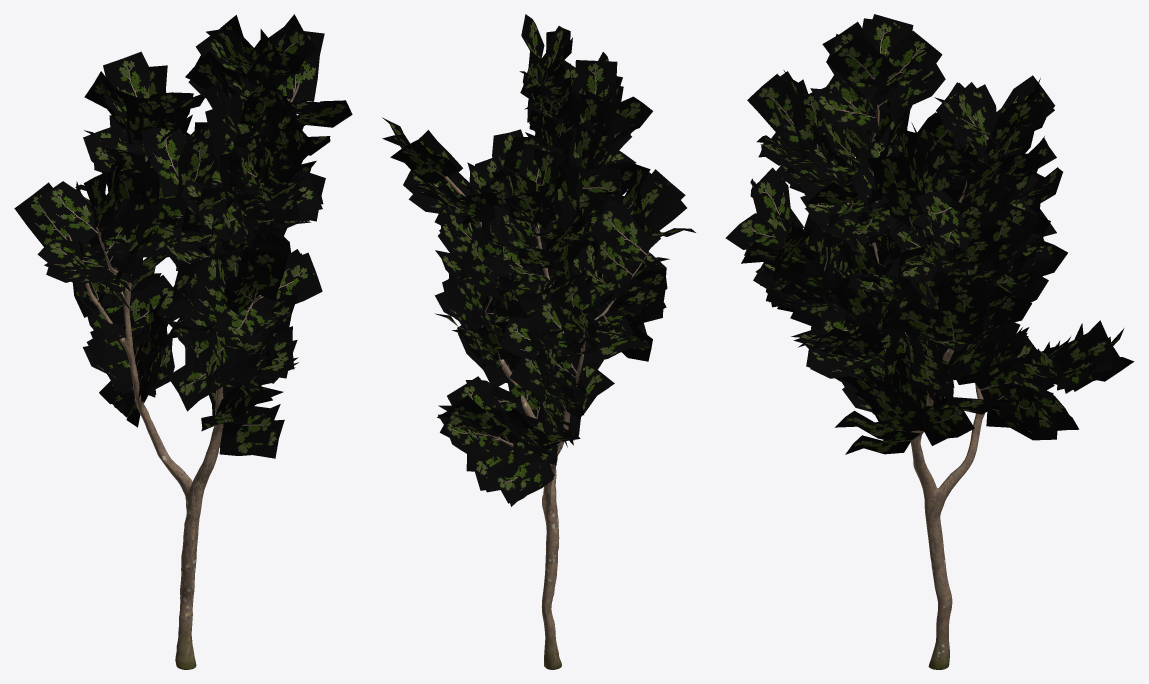
File: tree.glb
3 renders of one model, left to right at view 1: azimuth 30°, elevation 25°; view 2: azimuth 150°, elevation 25°; view 3: azimuth 270°, elevation 25°, orthographic. The views are drawn at different scales.
Visible parts, largest first — view 1: Plane.008; view 2: Plane.008; view 3: Plane.008.
Boxes of the visible parts, x1,y1,x2,y2 form: Plane.008: (14,14,352,669); Plane.008: (382,14,695,669); Plane.008: (725,14,1134,669).
Bounding box in the file's own units: 9.18 × 19.68 × 10.94.
Materials: 2 (2 with a texture image).
